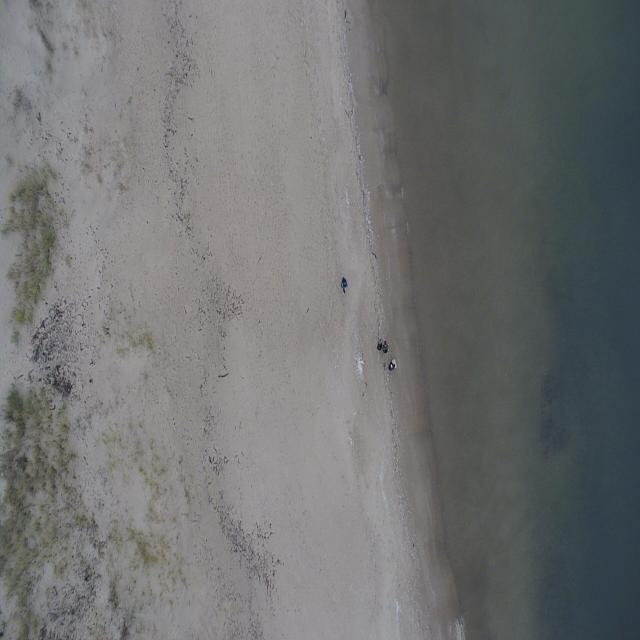p3rson: (341, 276, 348, 294), (382, 341, 388, 354), (388, 359, 395, 370), (377, 341, 382, 350)
